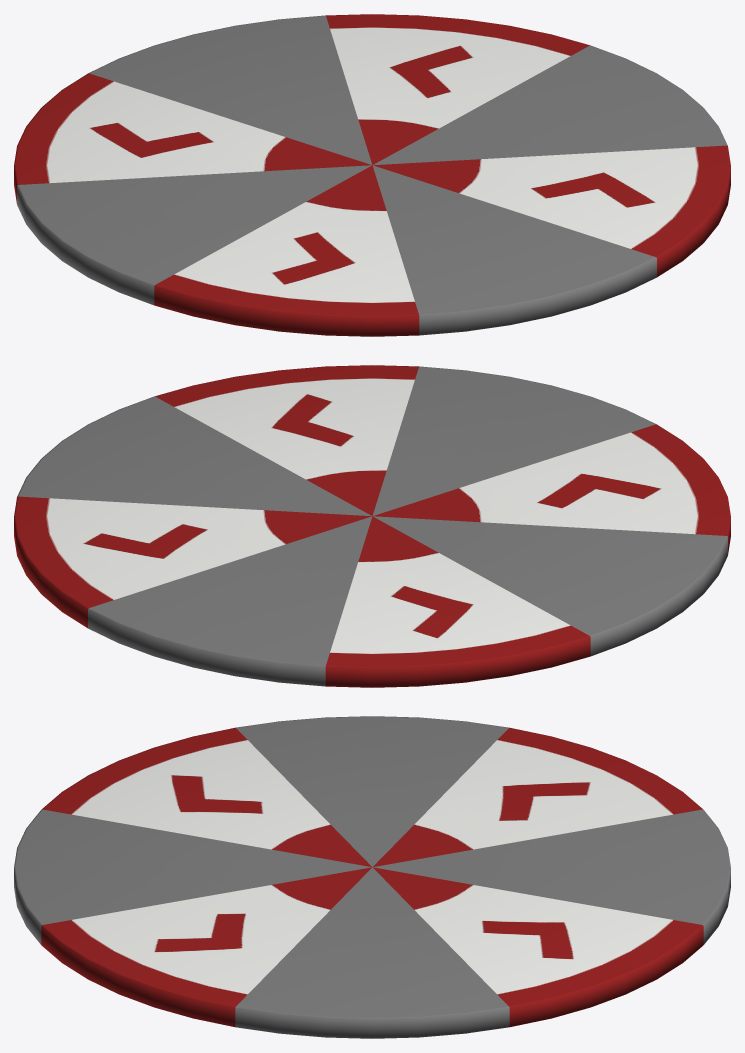
Rendered from E_SpinningWheel_Large_TwoTone.fbx.
The picture shows the model from 3 angles, top to bottom: view 1: azimuth 30°, elevation 25°; view 2: azimuth 150°, elevation 25°; view 3: azimuth 270°, elevation 25°; orthographic projection.
Parts seen in each view (by area): view 1: SpinningWheel_Large_TwoTone; view 2: SpinningWheel_Large_TwoTone; view 3: SpinningWheel_Large_TwoTone.
Part boxes in pixels (<box>): SpinningWheel_Large_TwoTone: <box>14,14,730,336</box>; SpinningWheel_Large_TwoTone: <box>14,365,730,687</box>; SpinningWheel_Large_TwoTone: <box>14,716,730,1038</box>.
Bounding box in the file's own units: 1586 × 50 × 1586.
